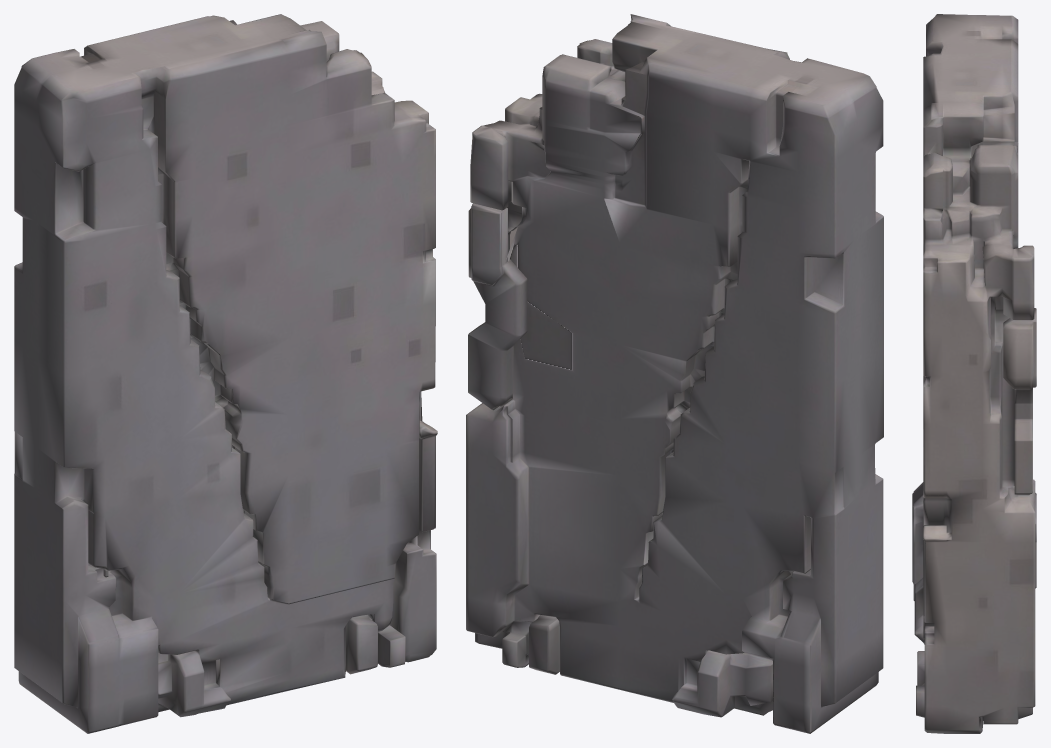
The model's file is slab_concrete.glb.
3 views of the same model, side by side, from view 1: azimuth 30°, elevation 25°; view 2: azimuth 150°, elevation 25°; view 3: azimuth 270°, elevation 25° (orthographic). The views are drawn at different scales.
Parts seen in each view (by area): view 1: tripo_node_305763ef-1dd1-425d-b210-745ec5995238; view 2: tripo_node_305763ef-1dd1-425d-b210-745ec5995238; view 3: tripo_node_305763ef-1dd1-425d-b210-745ec5995238.
Part boxes in pixels (left/top/right/bottom): tripo_node_305763ef-1dd1-425d-b210-745ec5995238: left=14, top=14, right=437, bottom=733; tripo_node_305763ef-1dd1-425d-b210-745ec5995238: left=466, top=14, right=883, bottom=733; tripo_node_305763ef-1dd1-425d-b210-745ec5995238: left=912, top=14, right=1036, bottom=733.
Bounding box in the file's own units: 0.5969 × 0.998 × 0.1977.
1 material, 1 textured.
